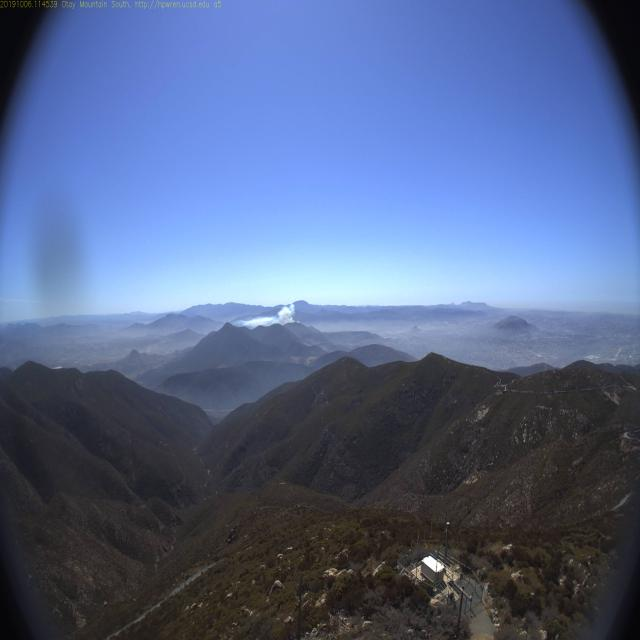smoke: (237, 302, 299, 328)
